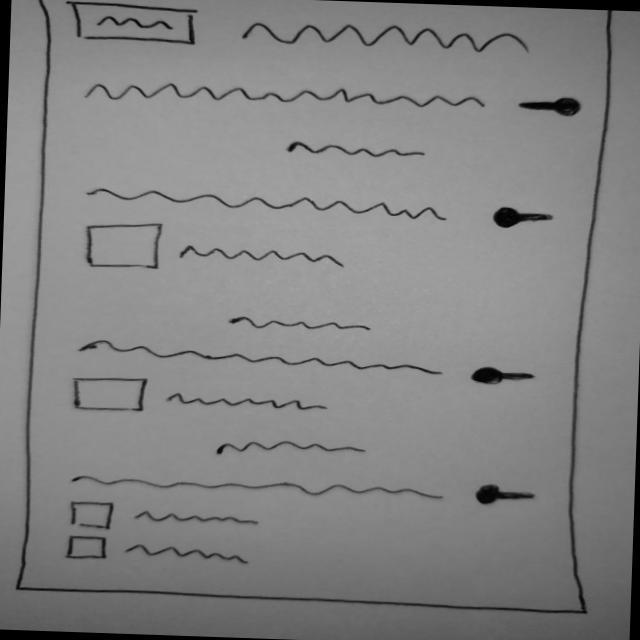checkbox: (82, 218, 354, 279), (73, 374, 334, 424), (65, 500, 265, 538), (63, 533, 262, 570)
input: (59, 1, 209, 52)
text: (80, 334, 453, 382), (81, 77, 492, 117), (90, 181, 455, 226), (240, 16, 543, 63), (68, 470, 450, 505), (211, 436, 372, 465), (279, 138, 442, 166), (223, 312, 382, 340)
toggle: (487, 202, 564, 234), (466, 479, 544, 510), (515, 92, 587, 123), (468, 365, 546, 390)
